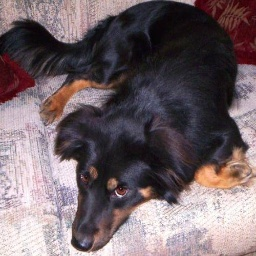dog: (4, 4, 256, 251)
